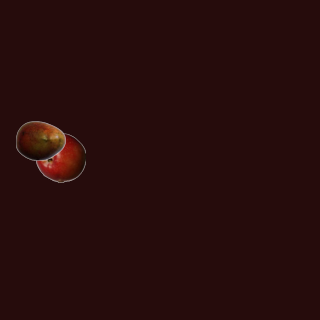Apple Braeburn: (35, 132, 85, 182)
Mango Red: (15, 115, 65, 165)
